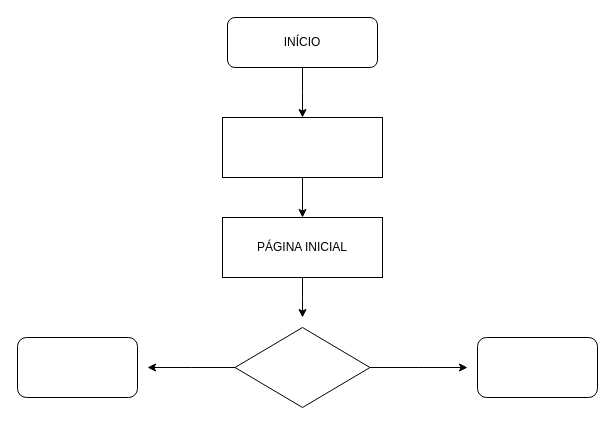
Image size: 615x425. Some labels were removed from this diagram. The shapes that lost their labels are listed below. From the top down, each one's box as (x1, y1, x2, y2) in pixels, then its label:
(222, 116, 382, 178): ACESSA O SITE
(234, 326, 370, 408): TEM CONTA?
